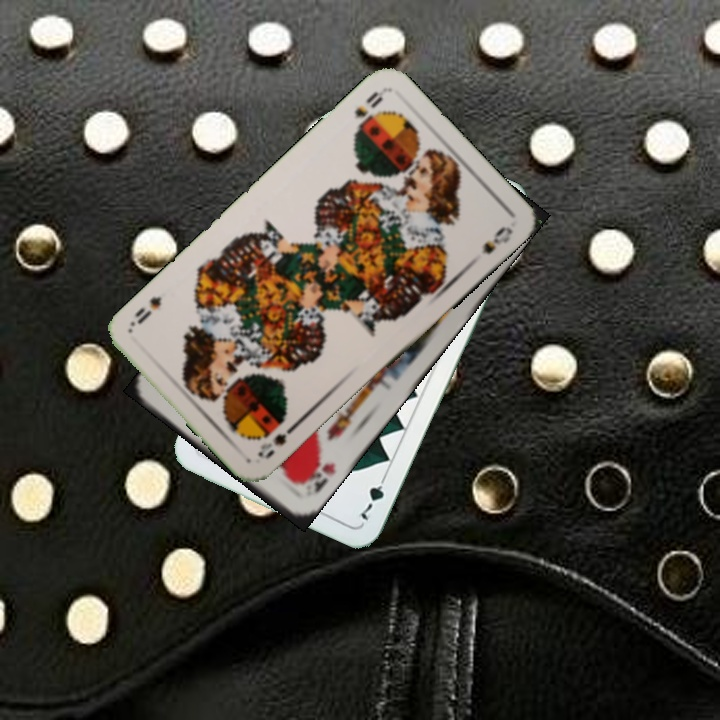G7: (356, 469, 390, 523)
HK: (296, 451, 338, 496)
SO: (253, 418, 302, 462), (350, 87, 387, 131)
